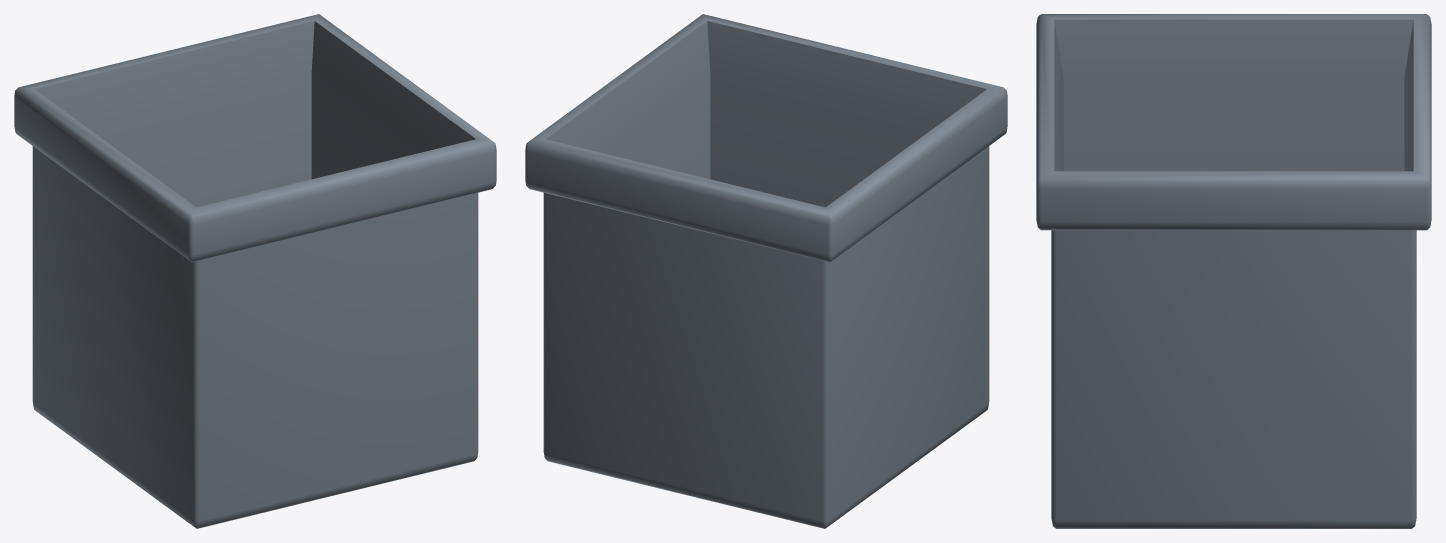
Rendered from Hood-Chimney-1.fbx.
The picture shows the model from 3 angles, left to right: view 1: azimuth 30°, elevation 25°; view 2: azimuth 150°, elevation 25°; view 3: azimuth 270°, elevation 25°; orthographic projection. The views are drawn at different scales.
Visible parts, largest first — view 1: Hood-Chimney-1; view 2: Hood-Chimney-1; view 3: Hood-Chimney-1.
Boxes of the visible parts, <box> form: Hood-Chimney-1: <box>14,14,496,528</box>; Hood-Chimney-1: <box>525,14,1007,528</box>; Hood-Chimney-1: <box>1036,14,1431,528</box>.
Size of the model in its own units: 0.2499 by 0.25 by 0.2499.
